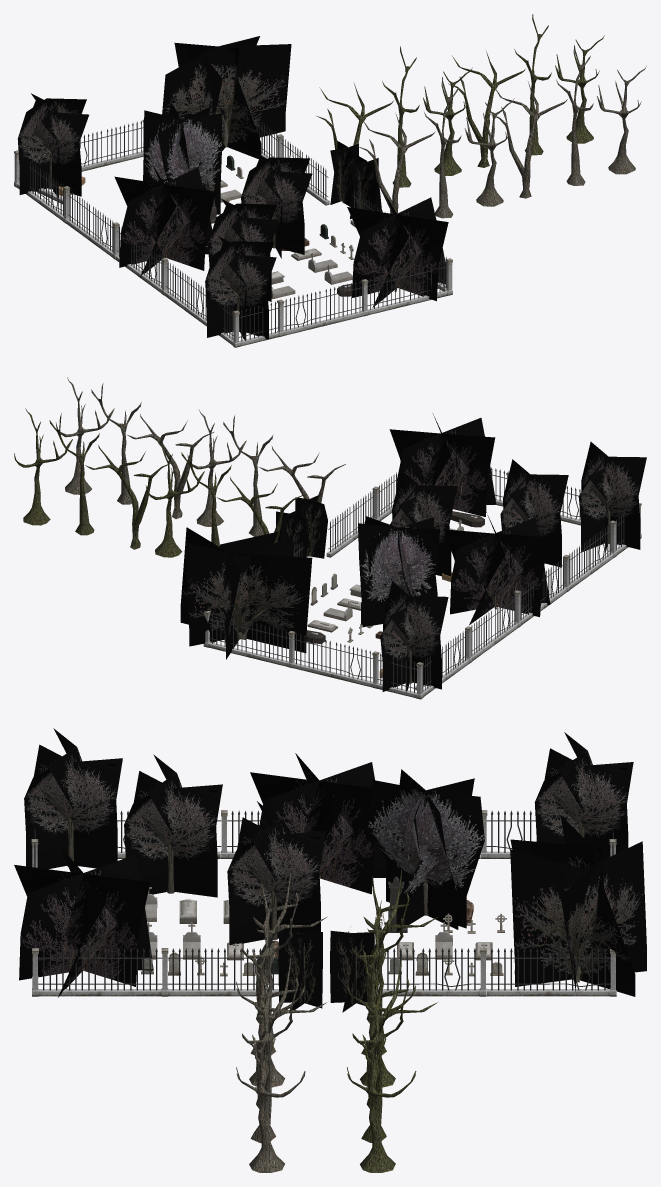
File: Cementerio.obj
3 renders of one model, top to bottom at view 1: azimuth 30°, elevation 25°; view 2: azimuth 150°, elevation 25°; view 3: azimuth 270°, elevation 25°, orthographic. The views are drawn at different scales.
Visible parts, largest first — view 1: Tree_04, Tree_02.001, Tree_02, Tree_01.002, Tree_01.001, Tree, Tree_01, Tree_01.003, Tree_03, Tree_03.001, Tree_1_Material.001_0, Tree1M_Material.004_0 (+23 smaller); view 2: Tree_04, Tree_02.001, Tree, Tree_02, Tree_01.002, Tree_01.001, Tree_01.003, Tree_01, Tree_03, Tree1M_Material.004_0, Tree3m_Material.007_0, Tree3m_Material.007_0.001 (+23 smaller); view 3: Tree_04, Tree_02, Tree, Tree_01.001, Tree_01.003, Tree_02.001, Tree_01, Tree_01.002, Tree_03, Tree_03.001, Tree3_Material.003_0, Tree3m_Material.007_0 (+19 smaller).
Boxes of the visible parts, x1,y1,x2,y2 form: Tree_04: (162, 36, 291, 158); Tree_02.001: (114, 163, 215, 277); Tree_02: (347, 194, 448, 307); Tree_01.002: (17, 93, 88, 197); Tree_01.001: (205, 236, 276, 340); Tree: (143, 102, 222, 214); Tree_01: (241, 152, 312, 258); Tree_01.003: (208, 198, 279, 301); Tree_03: (350, 155, 381, 219); Tree_03.001: (330, 141, 358, 207); Tree_1_Material.001_0: (490, 81, 567, 198); Tree1M_Material.004_0: (448, 51, 525, 167); Tree_04: (180, 527, 312, 659); Tree_02.001: (444, 512, 550, 625); Tree: (358, 516, 439, 627); Tree_02: (389, 414, 496, 516); Tree_01.002: (380, 581, 448, 693); Tree_01.001: (578, 441, 646, 552); Tree_01.003: (500, 459, 568, 567); Tree_01: (390, 470, 457, 576); Tree_03: (295, 495, 327, 558); Tree1M_Material.004_0: (85, 445, 172, 549); Tree3m_Material.007_0: (14, 408, 72, 525); Tree3m_Material.007_0.001: (146, 440, 204, 557); Tree_04: (510, 815, 646, 996); Tree_02: (14, 845, 153, 997); Tree: (367, 769, 484, 932); Tree_01.001: (24, 728, 122, 869); Tree_01.003: (124, 754, 222, 897); Tree_02.001: (250, 753, 387, 894); Tree_01: (227, 801, 326, 945); Tree_01.002: (534, 732, 633, 860); Tree_03: (278, 931, 322, 1009); Tree_03.001: (330, 927, 374, 1012); Tree3_Material.003_0: (236, 1031, 305, 1172); Tree3m_Material.007_0: (347, 1031, 416, 1172).
Size of the model in its own units: 40.5 by 9.86 by 33.08.
Materials: 31 (31 with a texture image).
